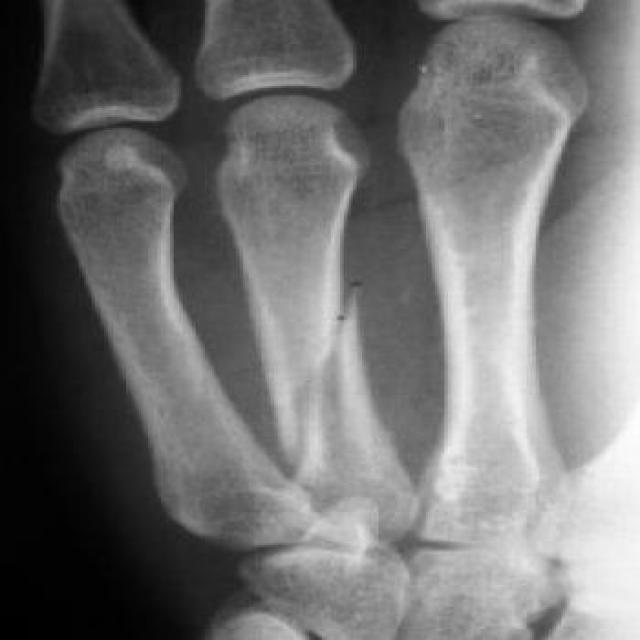Fracture: (261, 276, 372, 466)
